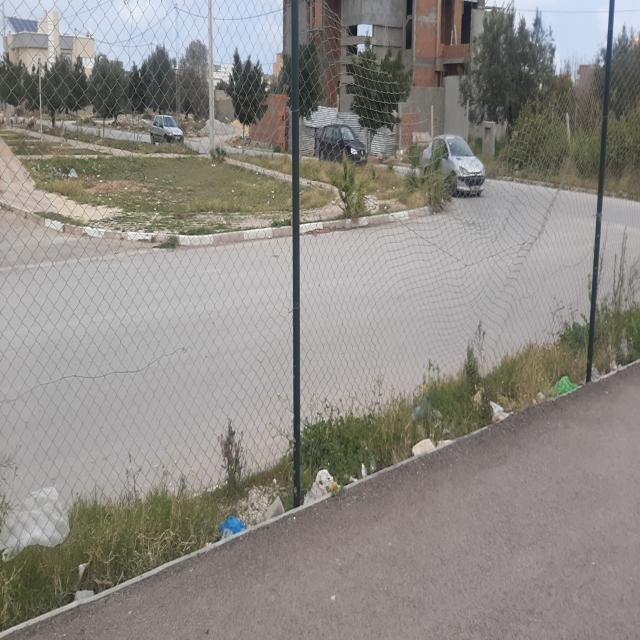fence line: (401, 54, 589, 164)
